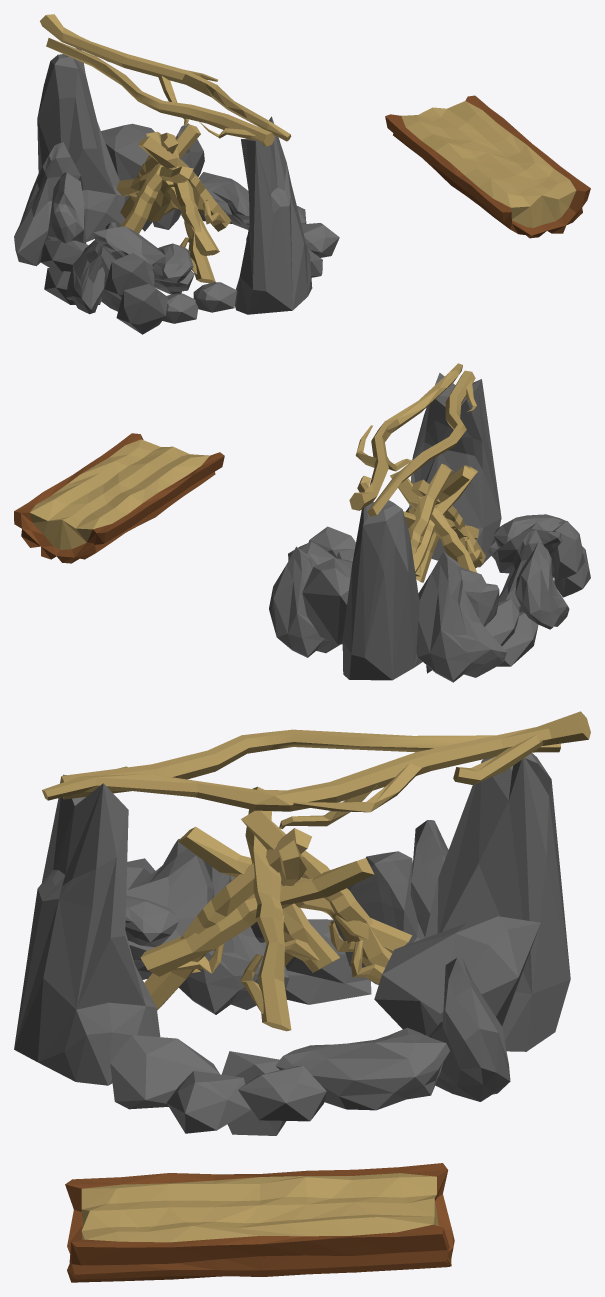
File: campfire.glb
3 views of the same model, one above another, from view 1: azimuth 30°, elevation 25°; view 2: azimuth 150°, elevation 25°; view 3: azimuth 270°, elevation 25° (orthographic). The views are drawn at different scales.
Parts seen in each view (by area): view 1: Cube.001, Icosphere.022, Icosphere.023, NurbsPath.005, NurbsPath.004, Icosphere.017, Icosphere.014, Icosphere.020, Icosphere.005, Icosphere.025, Icosphere.019_0.001, NurbsPath.012 (+16 smaller); view 2: Cube.001, Icosphere.023, Icosphere.022, Icosphere.017, Icosphere.026, Icosphere.005, NurbsPath.005, Icosphere.025, NurbsPath.004, NurbsPath.009, Icosphere.014, Icosphere.019 (+13 smaller); view 3: Cube.001, Icosphere.022, Icosphere.023, NurbsPath.005, Icosphere.005, Icosphere.007, Icosphere.026, NurbsPath.004, NurbsPath.010, NurbsPath.012, Icosphere.021, Icosphere.020 (+14 smaller).
Boxes of the visible parts, x1,y1,x2,y2 form: Cube.001: (385,95,590,238); Icosphere.022: (235,116,312,314); Icosphere.023: (37,48,125,241); NurbsPath.005: (40,14,291,141); NurbsPath.004: (46,38,274,146); Icosphere.017: (14,142,83,266); Icosphere.014: (47,172,86,243); Icosphere.020: (93,226,194,294); Icosphere.005: (101,123,188,231); Icosphere.025: (66,240,104,314); Icosphere.019_0.001: (116,284,167,334); NurbsPath.012: (138,136,231,231); Cube.001: (14,433,224,563); Icosphere.023: (342,500,422,680); Icosphere.022: (405,373,501,567); Icosphere.017: (416,552,506,682); Icosphere.026: (269,546,340,657); Icosphere.005: (302,558,352,644); NurbsPath.005: (349,363,462,510); Icosphere.025: (515,542,569,629); NurbsPath.004: (367,370,476,516); NurbsPath.009: (390,471,477,572); Icosphere.014: (426,567,499,673); Icosphere.019: (550,521,584,581); Cube.001: (65,1163,454,1282); Icosphere.022: (14,774,160,1085); Icosphere.023: (425,753,570,1051); NurbsPath.005: (42,711,590,829); Icosphere.005: (374,916,540,1036); Icosphere.007: (276,1027,449,1110); Icosphere.026: (429,957,510,1101); NurbsPath.004: (60,729,560,799); NurbsPath.010: (140,858,374,976); NurbsPath.012: (240,786,291,1031); Icosphere.021: (110,1035,219,1109); Icosphere.020: (126,839,214,979).
Size of the model in its own units: 7.7 by 3.28 by 5.17.
